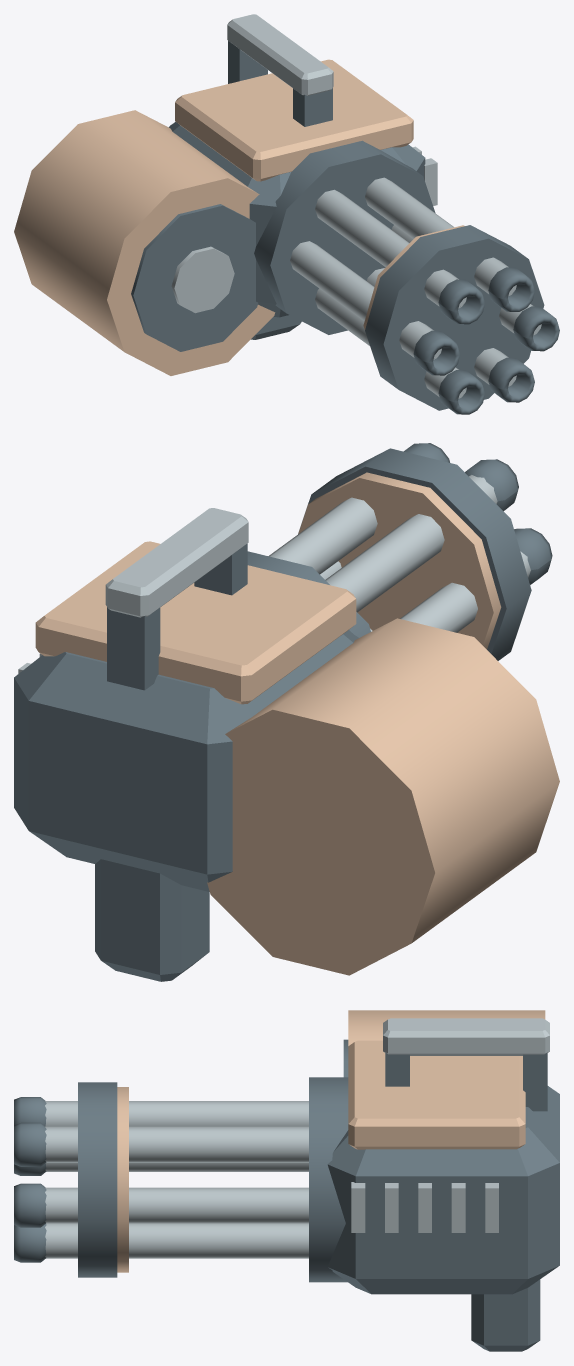
The model's file is chain.glb.
3 views of the same model, one above another, from view 1: azimuth 30°, elevation 25°; view 2: azimuth 150°, elevation 25°; view 3: azimuth 270°, elevation 25° (orthographic). The views are drawn at different scales.
Parts seen in each view (by area): view 1: static:equipment-chain, rotor:equipment-dark-steel, static:equipment-dark-steel, rotor:equipment-steel, static:equipment-steel, static:equipment-rubber, rotor:equipment-chain; view 2: static:equipment-chain, static:equipment-dark-steel, rotor:equipment-dark-steel, rotor:equipment-steel, rotor:equipment-chain, static:equipment-rubber, static:equipment-steel; view 3: static:equipment-dark-steel, rotor:equipment-steel, rotor:equipment-dark-steel, static:equipment-chain, static:equipment-steel, static:equipment-rubber, rotor:equipment-chain.
Boxes of the visible parts, <box> form: static:equipment-chain: <box>14,59,413,375</box>; rotor:equipment-dark-steel: <box>254,140,559,414</box>; static:equipment-dark-steel: <box>131,41,425,351</box>; rotor:equipment-steel: <box>290,177,541,398</box>; static:equipment-steel: <box>171,14,437,313</box>; static:equipment-rubber: <box>251,315,301,339</box>; rotor:equipment-chain: <box>363,225,464,329</box>; static:equipment-chain: <box>35,541,559,975</box>; static:equipment-dark-steel: <box>14,543,358,891</box>; rotor:equipment-dark-steel: <box>247,443,552,660</box>; rotor:equipment-steel: <box>268,475,530,632</box>; rotor:equipment-chain: <box>298,472,501,649</box>; static:equipment-rubber: <box>95,859,209,981</box>; static:equipment-steel: <box>18,508,248,673</box>; static:equipment-dark-steel: <box>327,1039,559,1294</box>; rotor:equipment-steel: <box>45,1101,308,1258</box>; rotor:equipment-dark-steel: <box>14,1077,348,1282</box>; static:equipment-chain: <box>348,1010,545,1149</box>; static:equipment-steel: <box>351,1018,549,1232</box>; static:equipment-rubber: <box>471,1279,540,1351</box>; rotor:equipment-chain: <box>117,1087,128,1272</box>.
Bounding box in the file's own units: 0.413 × 0.354 × 0.555.
